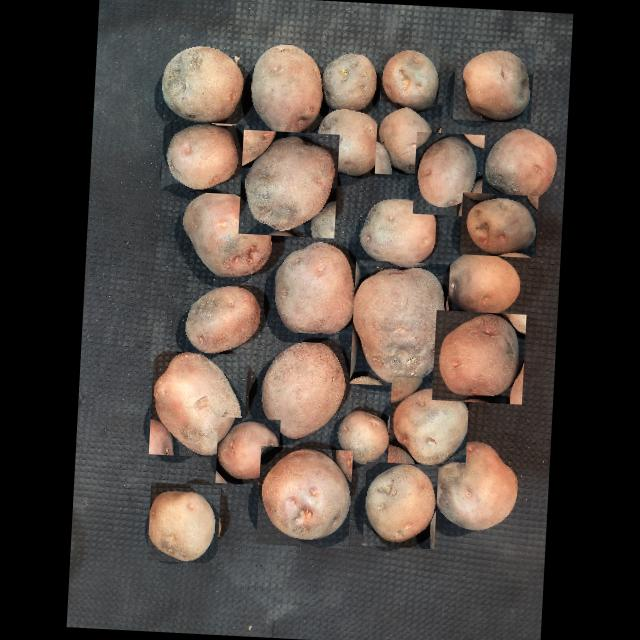Diseased-fungal potato: (350, 258, 450, 388), (252, 332, 352, 444), (238, 128, 339, 238), (149, 349, 248, 458), (256, 445, 353, 548), (427, 432, 516, 542), (266, 238, 359, 338), (245, 36, 332, 140), (432, 309, 527, 404), (176, 188, 274, 276), (388, 376, 470, 468), (158, 42, 248, 124), (453, 39, 535, 123), (483, 125, 564, 208), (362, 461, 438, 548), (441, 246, 532, 318), (304, 102, 387, 180), (354, 194, 442, 266), (160, 120, 244, 194), (413, 131, 485, 216), (147, 481, 221, 563), (183, 280, 263, 354), (460, 192, 539, 258), (374, 101, 442, 176), (328, 402, 396, 468), (317, 41, 378, 114), (216, 416, 280, 485), (380, 45, 440, 112)
